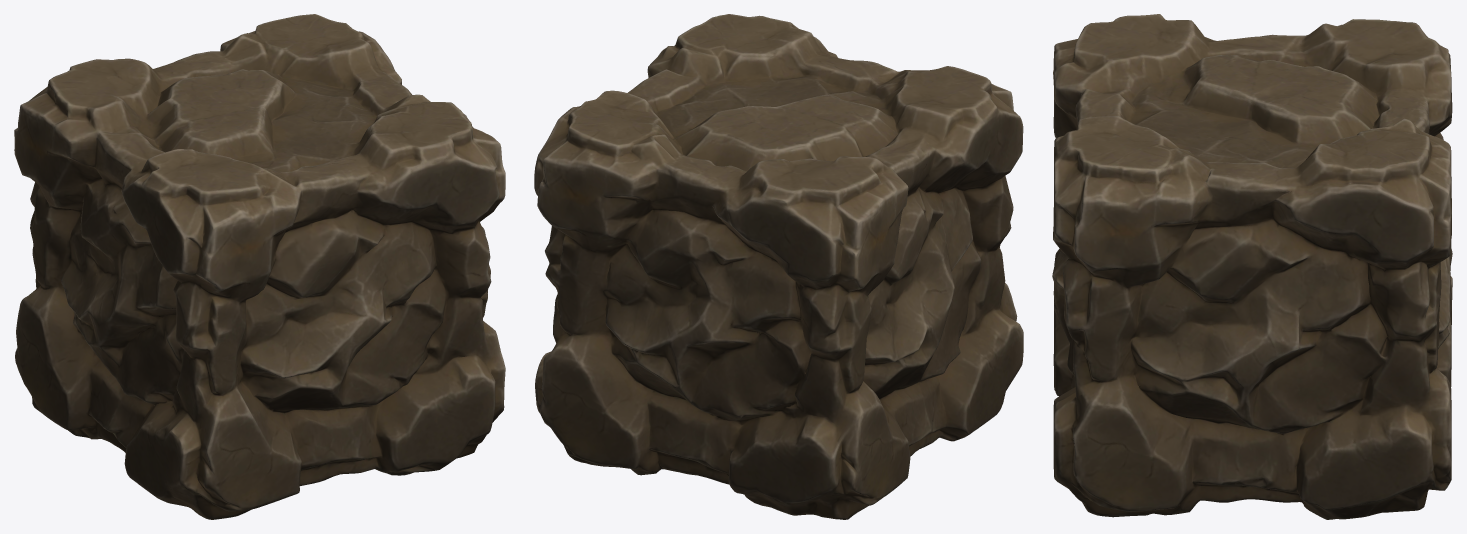
The model's file is Cave-Wall.glb.
3 renders of one model, left to right at view 1: azimuth 30°, elevation 25°; view 2: azimuth 150°, elevation 25°; view 3: azimuth 270°, elevation 25°, orthographic. The views are drawn at different scales.
Visible parts, largest first — view 1: world; view 2: world; view 3: world.
Boxes of the visible parts, box(x1,y1,x2,y2) form: world: box(14, 14, 505, 519); world: box(534, 14, 1023, 519); world: box(1052, 14, 1452, 519).
Size of the model in its own units: 1 by 0.9862 by 1.
Materials: 1 (1 with a texture image).
